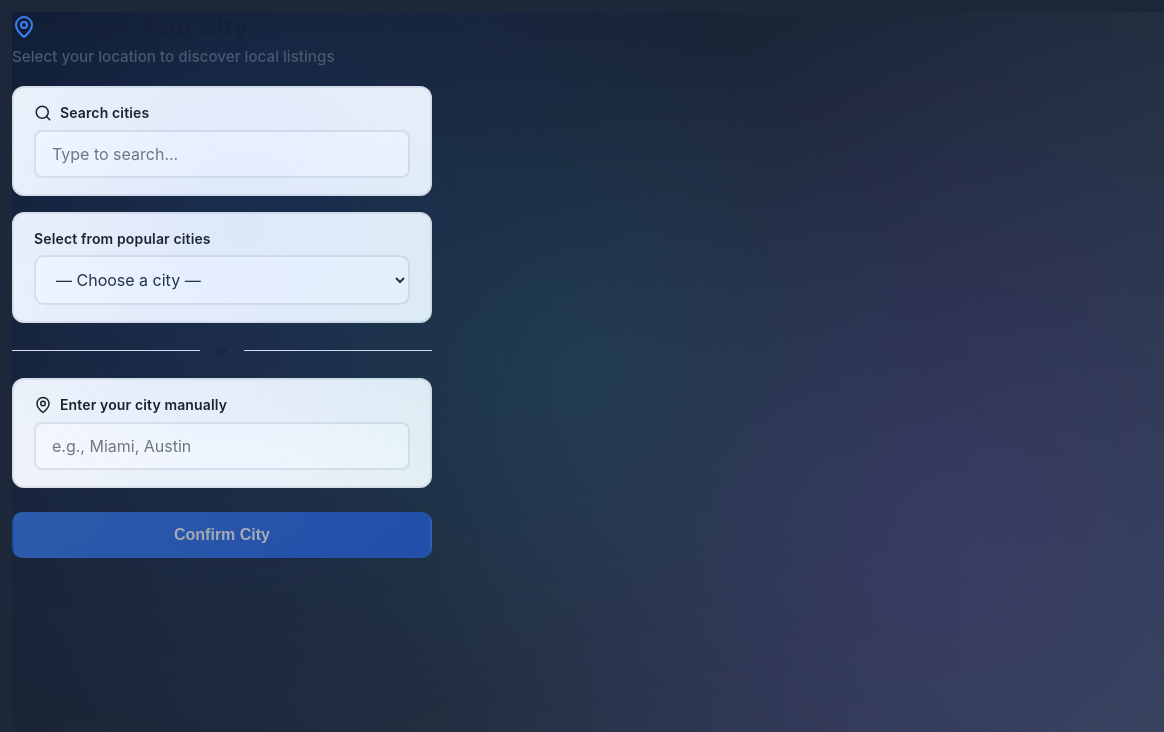
Test: CitySelector › Confirm City button is enabled when city is entered
The image size is (1164, 732).
Type "Miami" into the field named "City name" at (222, 446), box [34,422,410,470]
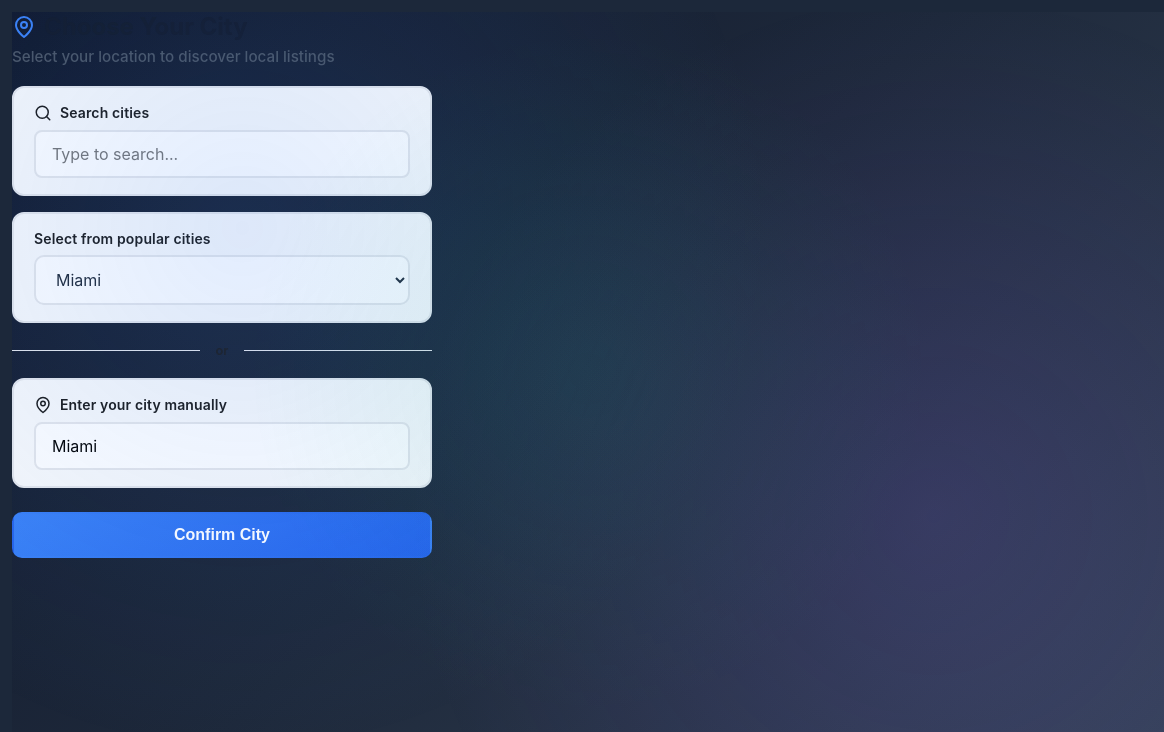
Now the button "Confirm City" is enabled, box [12,512,432,558]
